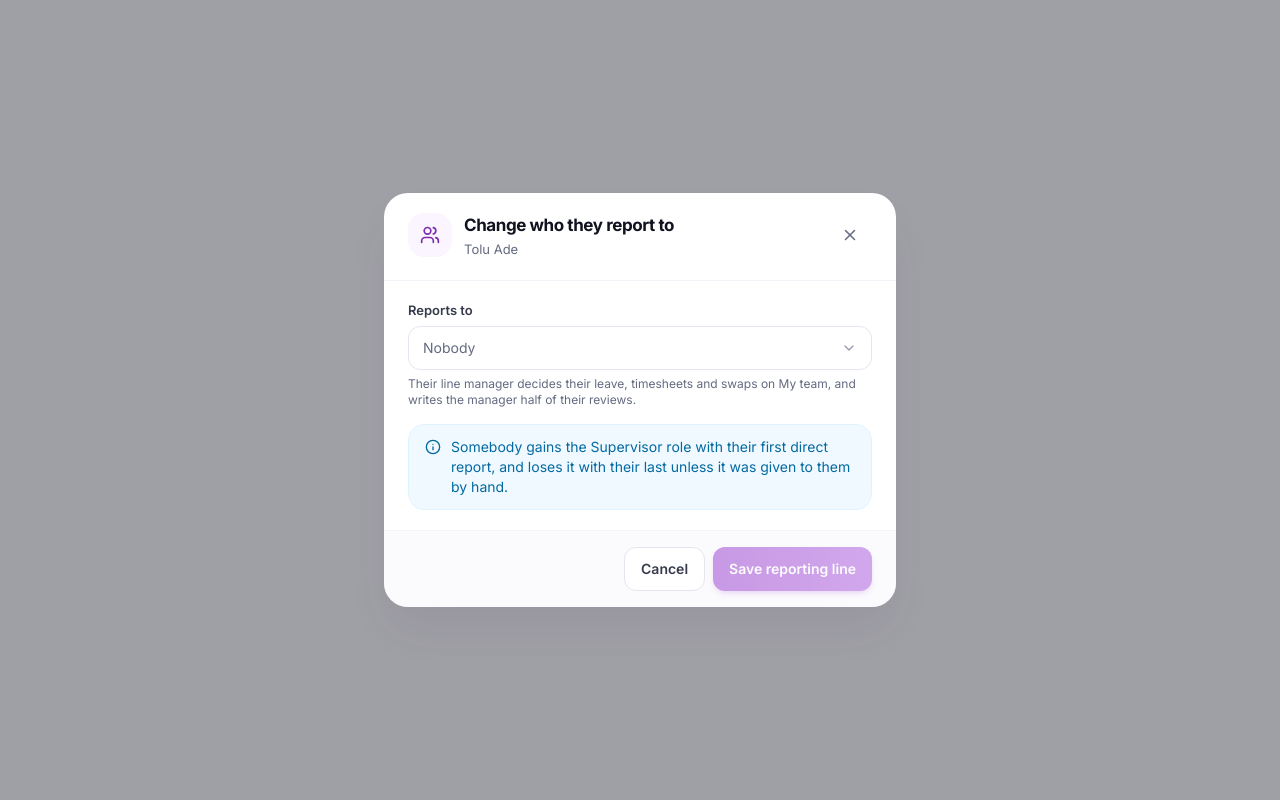
Test case: ReportsToDialog › offers current colleagues only, never the person themselves
The image size is (1280, 800).
Click the dropdown named "Reports to" at (449, 348), box [408,326,872,370]
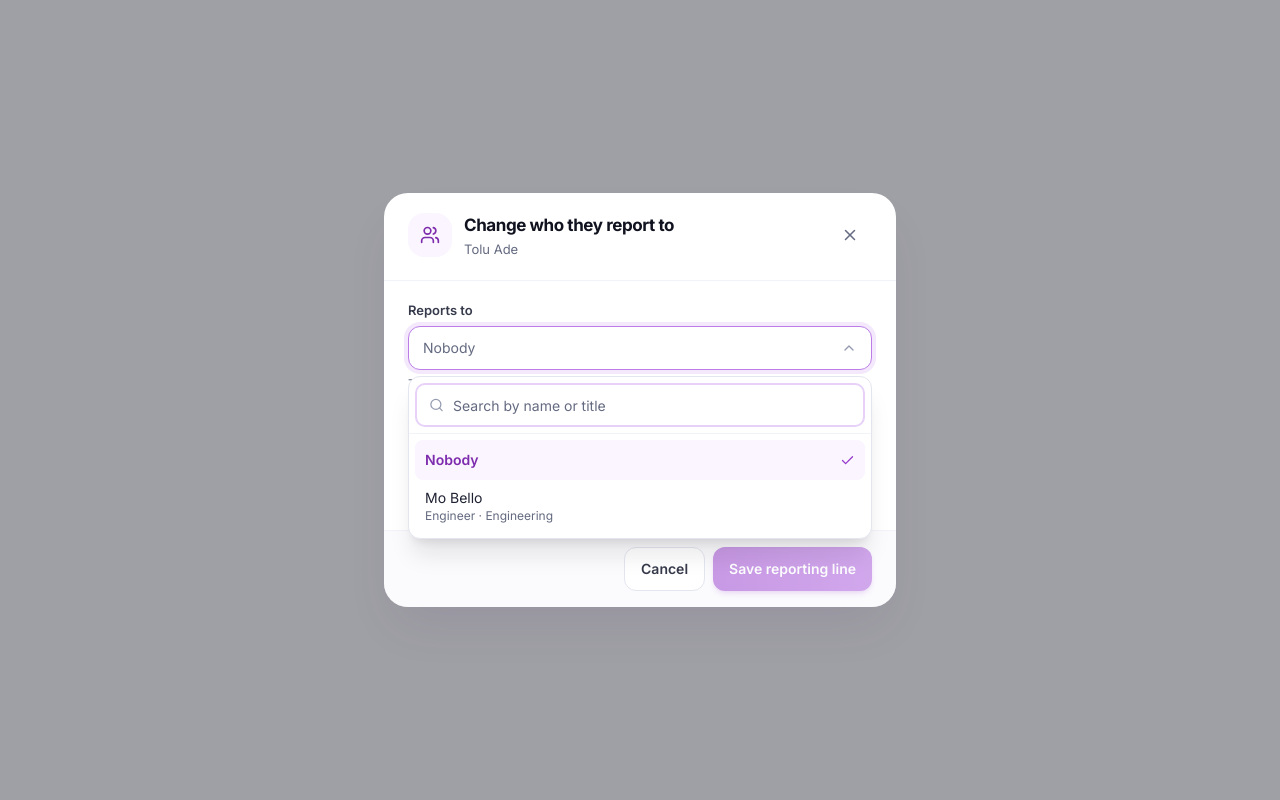
Expected: the option "Mo Bello Engineer · Engineering" is shown, [425,489,553,523]
